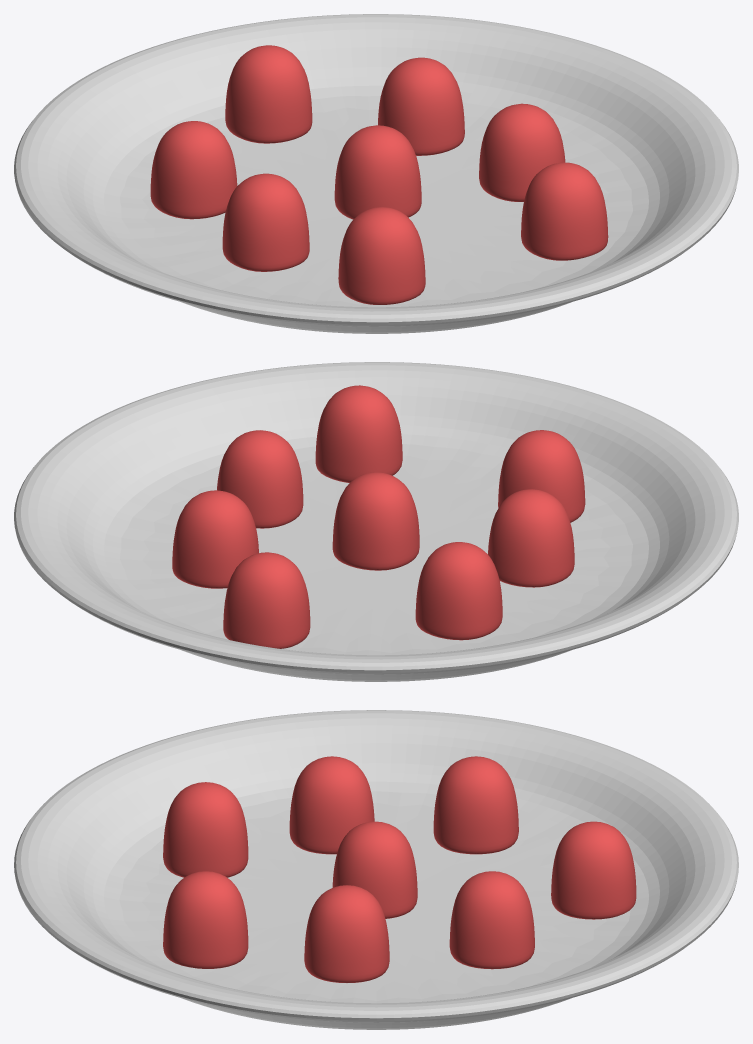
The model's file is newone.fbx.
3 renders of one model, top to bottom at view 1: azimuth 30°, elevation 25°; view 2: azimuth 150°, elevation 25°; view 3: azimuth 270°, elevation 25°, orthographic.
Visible parts, largest first — view 1: Circle, Cube.001, Cube.003, Cube.004, Cube.005, Cube.002, Cube, Cube.007, Cube.008; view 2: Circle, Cube, Cube.002, Cube.003, Cube.001, Cube.005, Cube.007, Cube.008, Cube.004; view 3: Circle, Cube.002, Cube.007, Cube.008, Cube.001, Cube.005, Cube.004, Cube.003, Cube.
Boxes of the visible parts, box(x1,y1,x2,y2) form: Circle: box(14, 14, 738, 333); Cube.001: box(225, 45, 312, 143); Cube.003: box(222, 173, 309, 271); Cube.004: box(338, 207, 425, 304); Cube.005: box(521, 162, 608, 260); Cube.002: box(150, 121, 237, 219); Cube: box(334, 125, 421, 219); Cube.007: box(378, 57, 464, 155); Cube.008: box(479, 103, 565, 201); Circle: box(14, 362, 738, 681); Cube: box(332, 472, 419, 570); Cube.002: box(415, 542, 502, 640); Cube.003: box(488, 489, 574, 587); Cube.001: box(223, 552, 310, 648); Cube.005: box(315, 385, 402, 482); Cube.007: box(172, 490, 258, 588); Cube.008: box(217, 430, 303, 528); Cube.004: box(498, 430, 585, 522); Circle: box(14, 710, 738, 1029); Cube.002: box(433, 756, 518, 854); Cube.007: box(449, 871, 534, 969); Cube.008: box(304, 885, 389, 982); Cube.001: box(551, 821, 636, 919); Cube.005: box(163, 871, 248, 968); Cube.004: box(163, 782, 248, 877); Cube.003: box(289, 756, 374, 854); Cube: box(332, 821, 417, 918).
Size of the model in its own units: 243 by 35.58 by 243.
